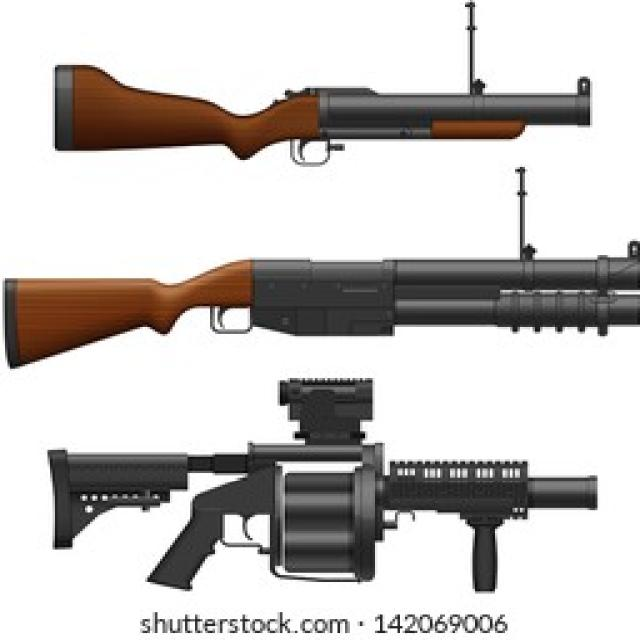Weapon: (48, 378, 595, 589), (5, 241, 638, 364), (58, 65, 588, 162)
